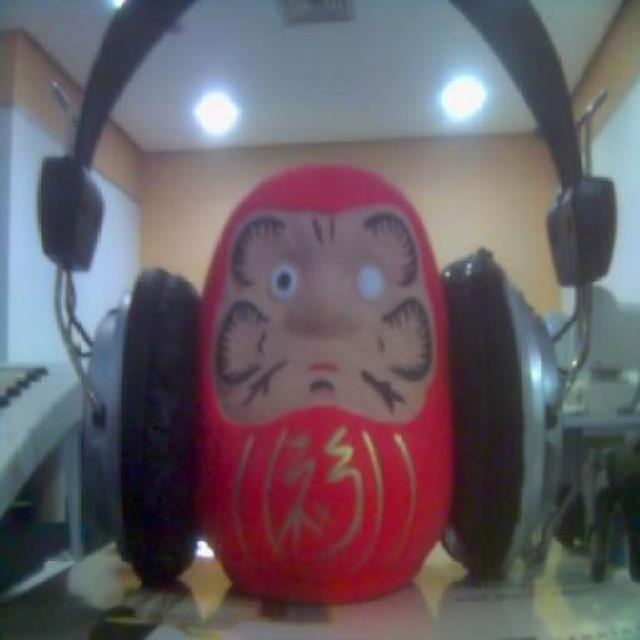earphone: (8, 5, 617, 570)
